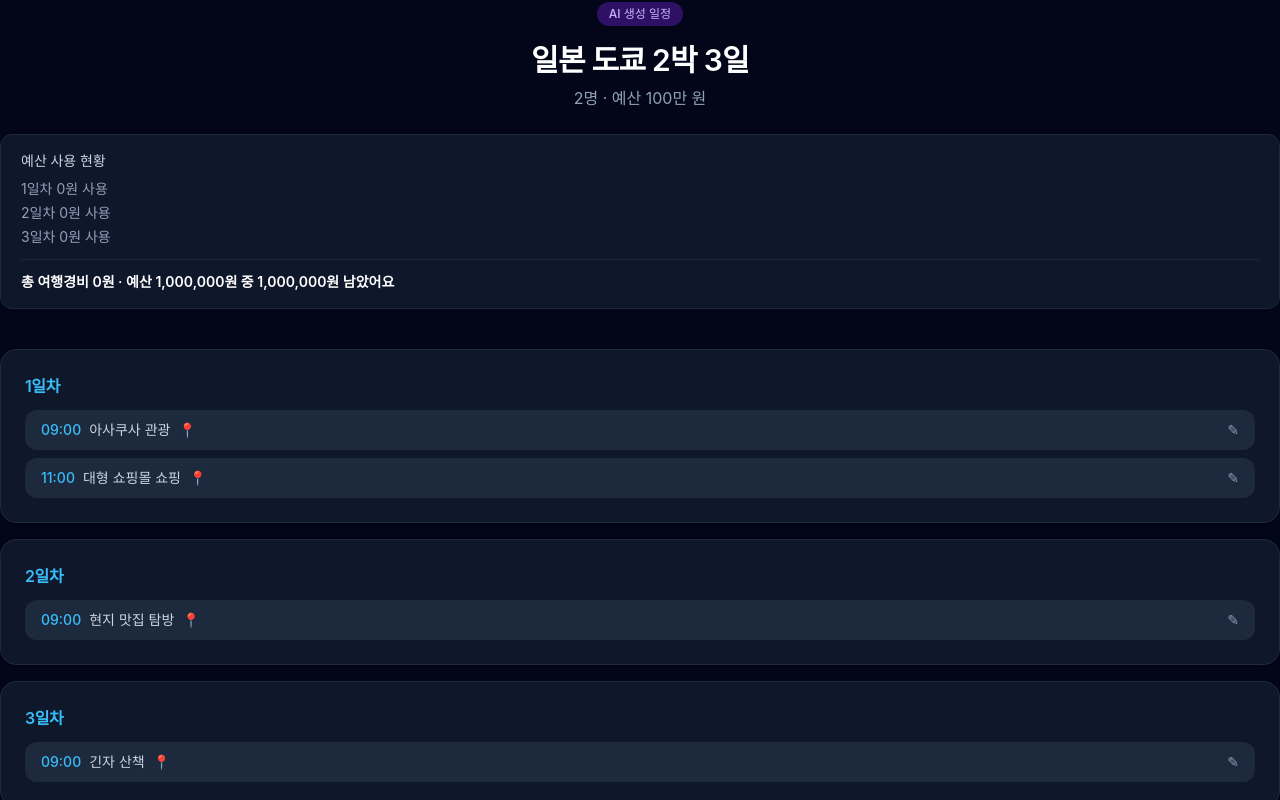
Scenario: ItineraryResult › closes the edit field without saving when cancelled
The width and height of the screenshot is (1280, 800).
Step 1. Click the button named "아사쿠사 관광 직접 수정" → (1233, 430), box top-left (1227, 420), bottom-right (1239, 440)
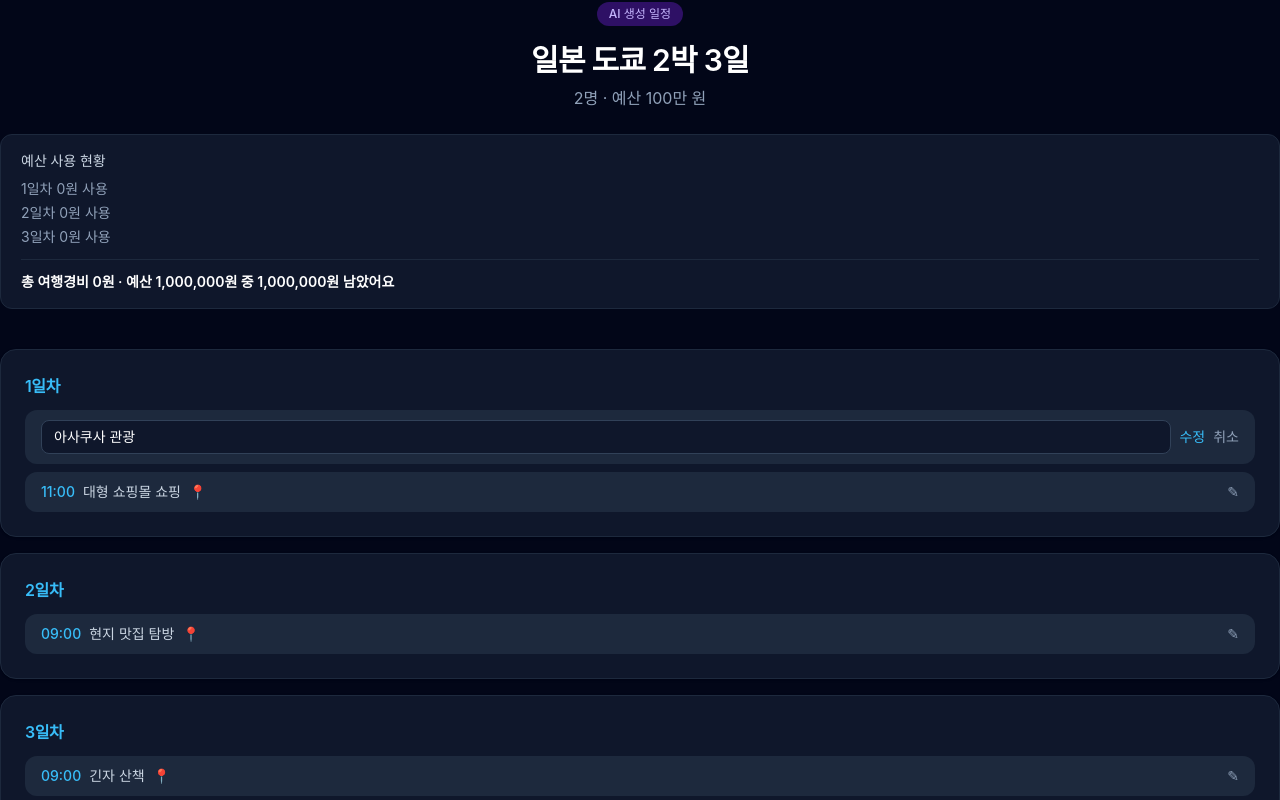
Step 2. Click the button "취소" → (1226, 437), box top-left (1213, 427), bottom-right (1239, 447)
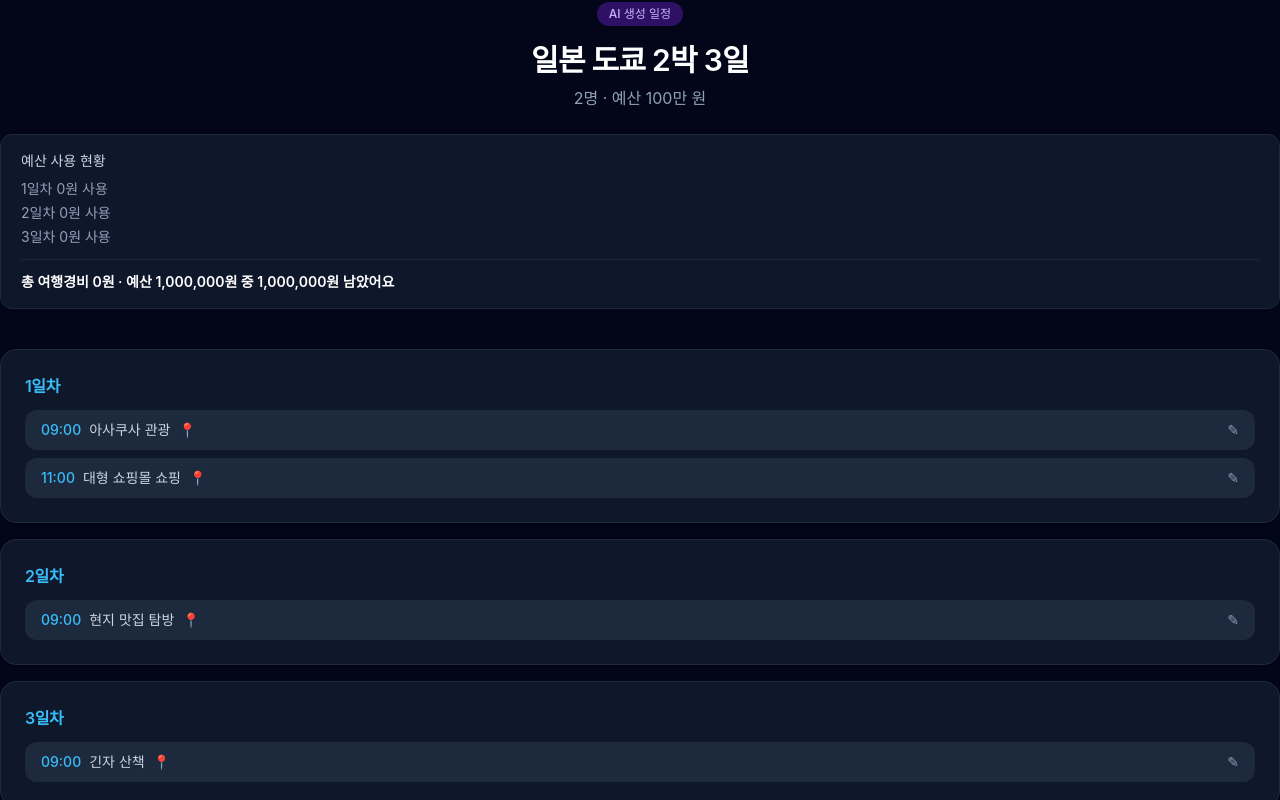
Expected: the text "아사쿠사 관광" is shown, top-left (89, 421), bottom-right (170, 438)
